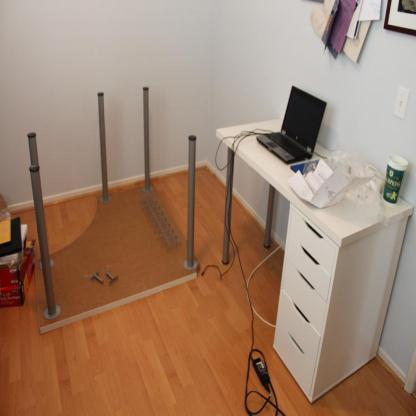board: (260, 84, 338, 169)
